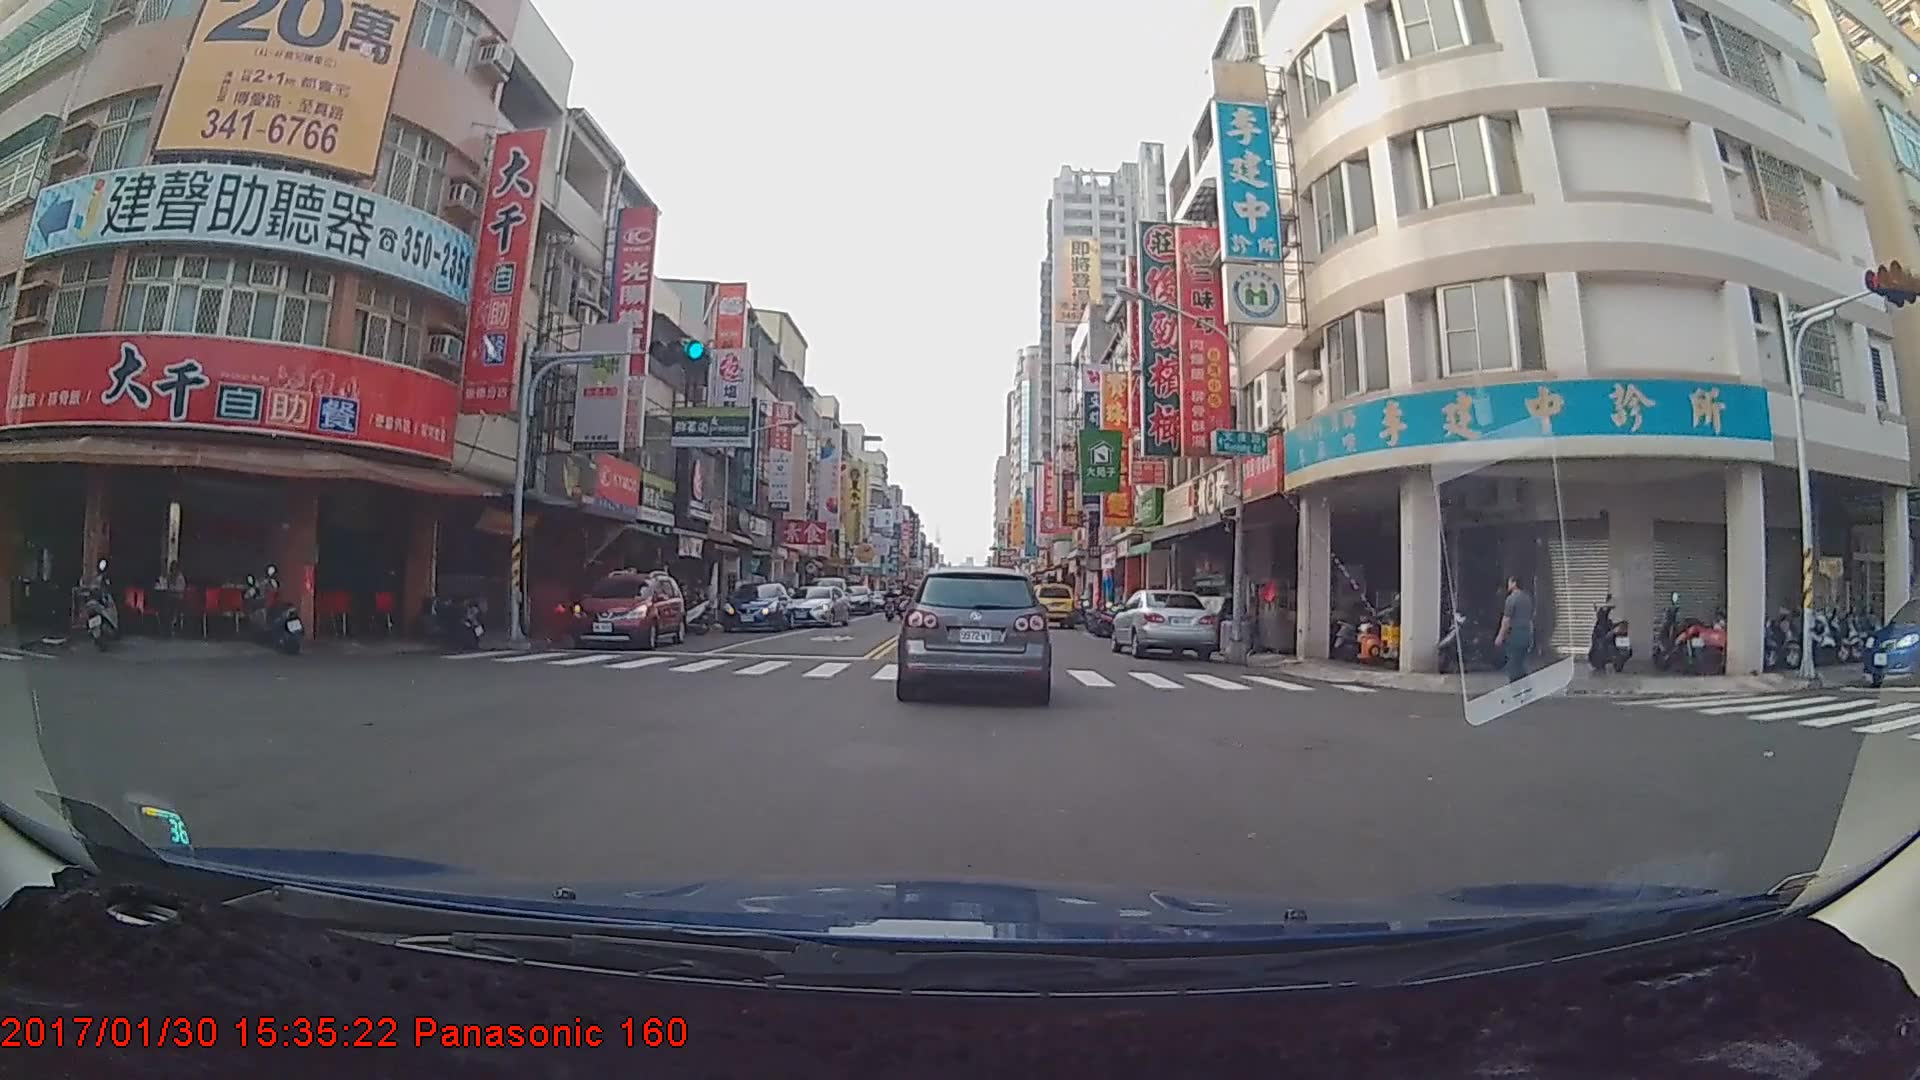pedestrian: (1498, 573, 1544, 711)
vehicle: (894, 567, 1050, 703), (572, 572, 685, 650), (1113, 588, 1222, 662), (719, 584, 794, 635), (785, 584, 849, 629), (1029, 581, 1075, 630)
